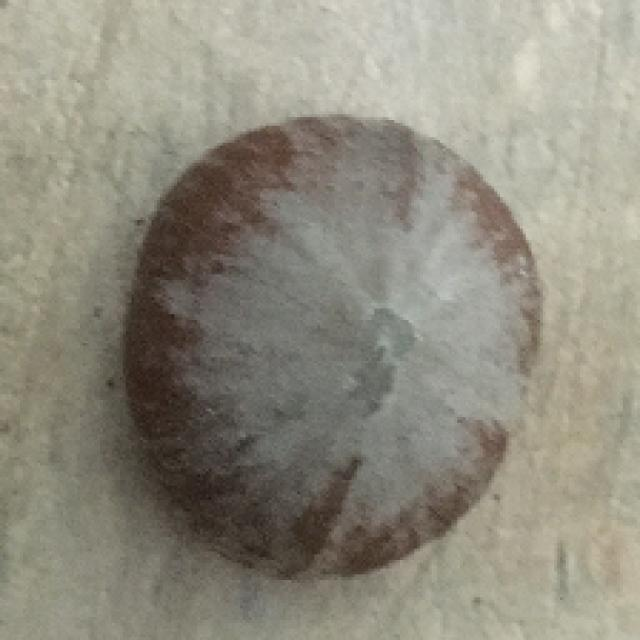qualityHazelnut: (115, 114, 540, 569)
